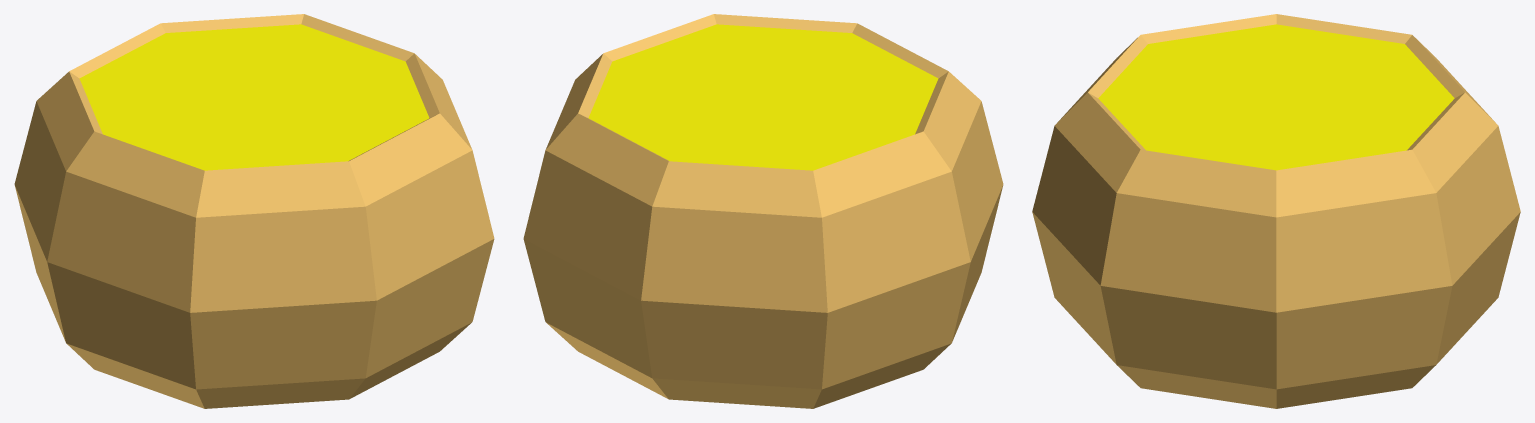
The model's file is Cheesewheel.fbx.
The picture shows the model from 3 angles, left to right: view 1: azimuth 30°, elevation 25°; view 2: azimuth 150°, elevation 25°; view 3: azimuth 270°, elevation 25°; orthographic projection.
Parts seen in each view (by area): view 1: Cheesewheel; view 2: Cheesewheel; view 3: Cheesewheel.
Part boxes in pixels (x1,y1,x2,y2): Cheesewheel: [14, 14, 494, 408]; Cheesewheel: [523, 14, 1003, 408]; Cheesewheel: [1032, 14, 1520, 408].
Bounding box in the file's own units: 31.06 × 17.06 × 31.67.
